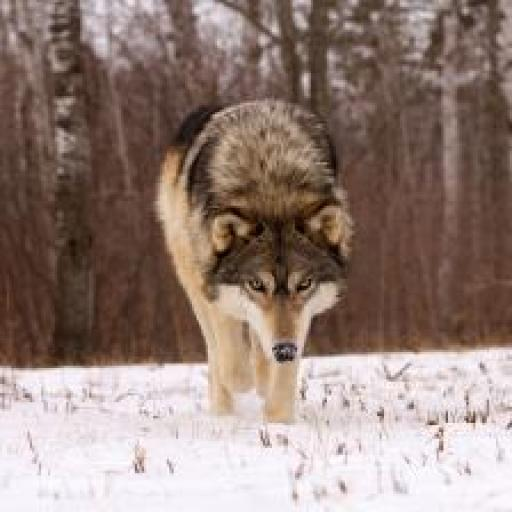wolf: (135, 80, 376, 441)
